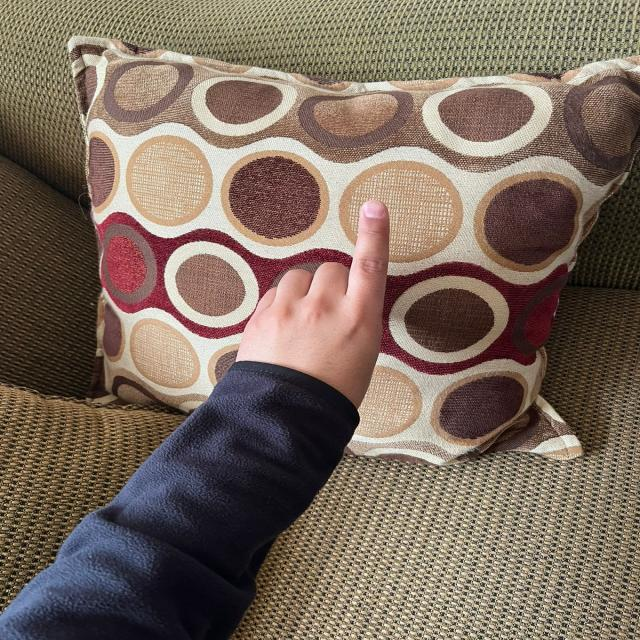T: (235, 187, 397, 425)
